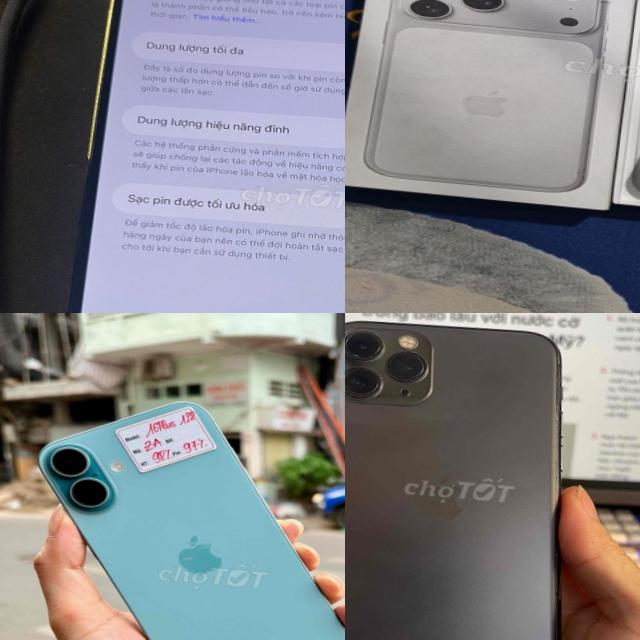gen_11: (345, 313, 601, 640)
gen_14: (34, 0, 345, 313)
gen_16: (39, 401, 345, 640)
scratch: (345, 324, 433, 401), (542, 344, 574, 484)
